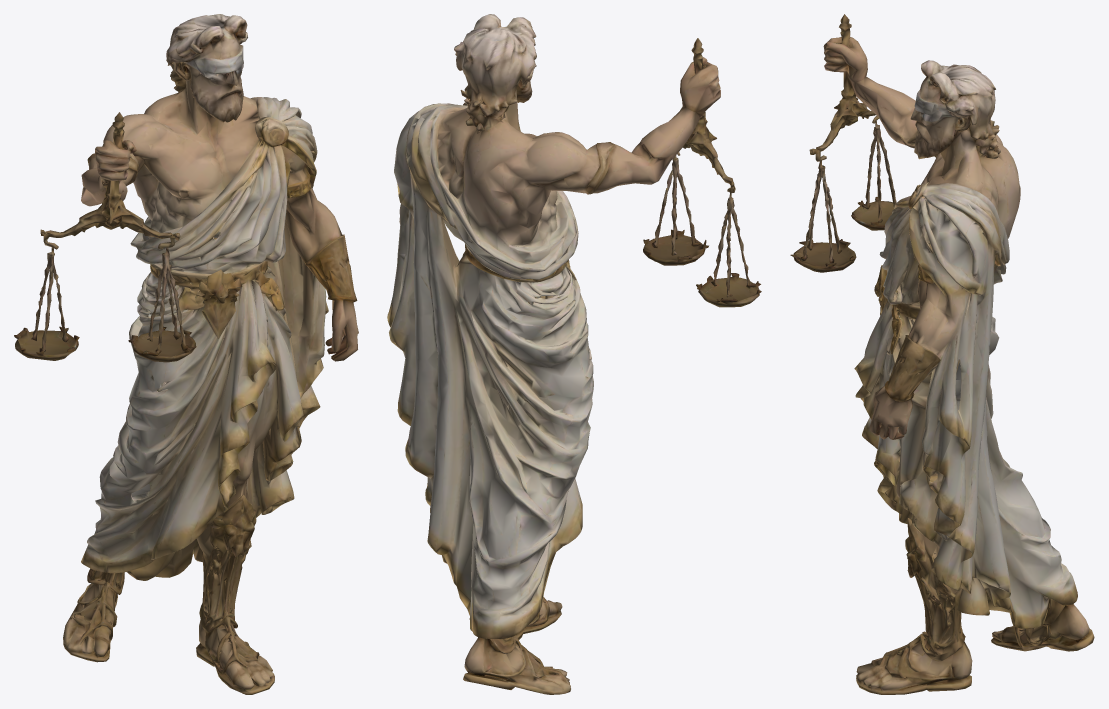
The model's file is statue.glb.
The picture shows the model from 3 angles, left to right: view 1: azimuth 30°, elevation 25°; view 2: azimuth 150°, elevation 25°; view 3: azimuth 270°, elevation 25°; orthographic projection. The views are drawn at different scales.
Parts seen in each view (by area): view 1: geometry_0; view 2: geometry_0; view 3: geometry_0.
Boxes of the visible parts, x1,y1,x2,y2 form: geometry_0: (14, 14, 358, 694); geometry_0: (387, 14, 761, 694); geometry_0: (790, 14, 1094, 694).
Size of the model in its own units: 0.5636 by 0.9993 by 0.4454.
1 material, 1 textured.
